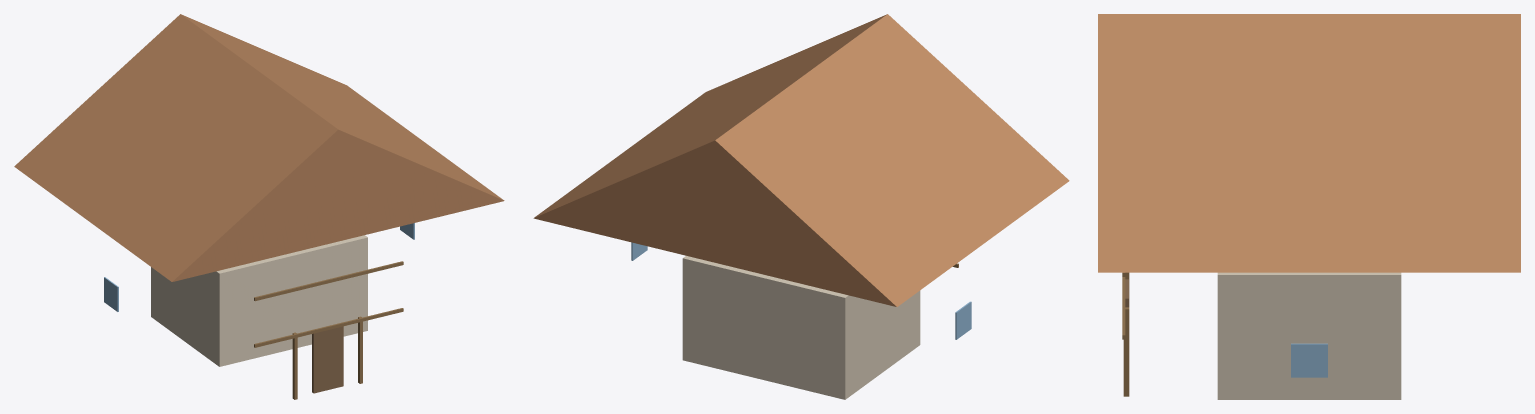
Rendered from medieval_shop.glb.
3 views of the same model, side by side, from view 1: azimuth 30°, elevation 25°; view 2: azimuth 150°, elevation 25°; view 3: azimuth 270°, elevation 25° (orthographic). The views are drawn at different scales.
Visible parts, largest first — view 1: medieval_shop_roof, medieval_shop_walls, medieval_shop_door, medieval_shop_beam.001, medieval_shop_beam; view 2: medieval_shop_roof, medieval_shop_walls, medieval_shop_window; view 3: medieval_shop_roof, medieval_shop_walls, medieval_shop_window.001, medieval_shop_door_frame.001.
Part boxes in pixels (bbox=[...]): medieval_shop_roof: bbox=[14, 14, 504, 281]; medieval_shop_walls: bbox=[151, 235, 367, 366]; medieval_shop_door: bbox=[312, 326, 343, 393]; medieval_shop_beam.001: bbox=[254, 261, 403, 301]; medieval_shop_beam: bbox=[254, 308, 403, 347]; medieval_shop_roof: bbox=[533, 14, 1069, 306]; medieval_shop_walls: bbox=[682, 255, 920, 399]; medieval_shop_window: bbox=[955, 301, 971, 339]; medieval_shop_roof: bbox=[1098, 14, 1520, 272]; medieval_shop_walls: bbox=[1217, 272, 1401, 399]; medieval_shop_window.001: bbox=[1291, 343, 1327, 377]; medieval_shop_door_frame.001: bbox=[1123, 307, 1129, 396].
Bounding box in the file's own units: 5.6 × 4.33 × 4.6.
